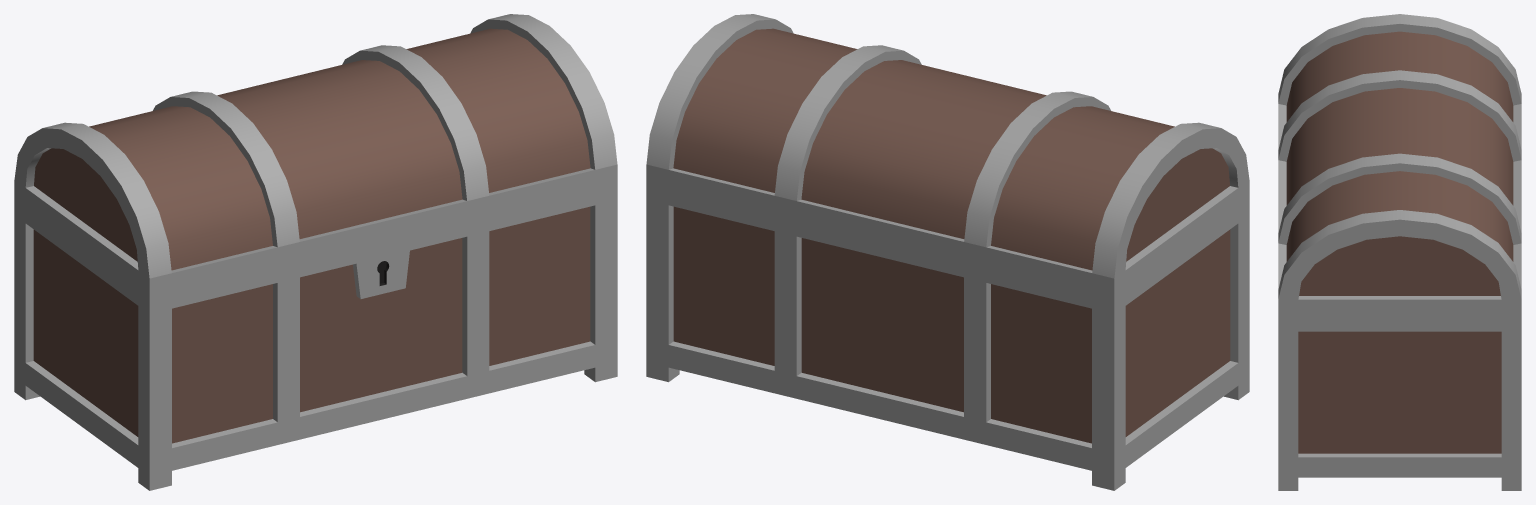
Rendered from BonusBox.fbx.
The picture shows the model from 3 angles, left to right: view 1: azimuth 30°, elevation 25°; view 2: azimuth 150°, elevation 25°; view 3: azimuth 270°, elevation 25°; orthographic projection. The views are drawn at different scales.
Visible parts, largest first — view 1: Bottom, Top; view 2: Bottom, Top; view 3: Top, Bottom.
Boxes of the visible parts, bbox=[...] form: Bottom: bbox=[14, 182, 617, 490]; Top: bbox=[14, 14, 617, 296]; Bottom: bbox=[646, 182, 1249, 490]; Top: bbox=[646, 14, 1249, 296]; Top: bbox=[1278, 14, 1521, 315]; Bottom: bbox=[1278, 316, 1521, 490].
Bounding box in the file's own units: 200 × 123 × 100.
